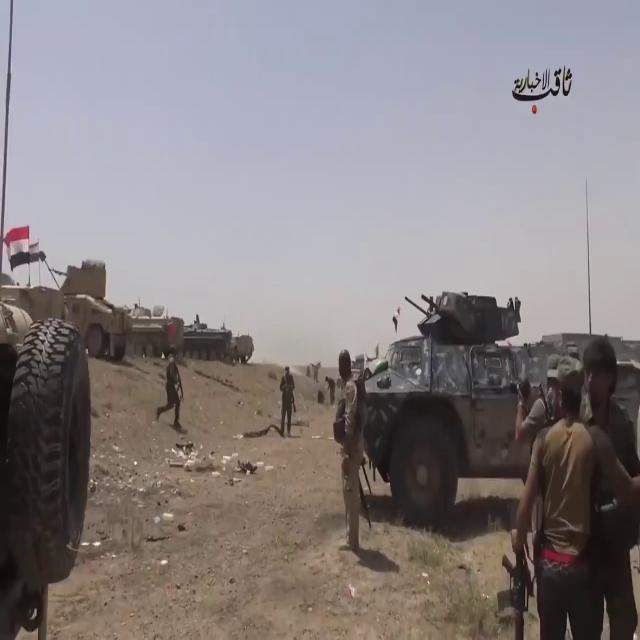long weapon: (493, 506, 539, 639)
